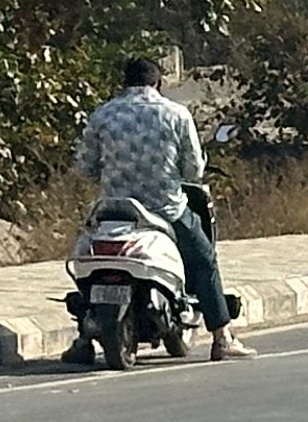BikeWithRider: (47, 50, 259, 371)
NoHelmet: (114, 51, 169, 99)
